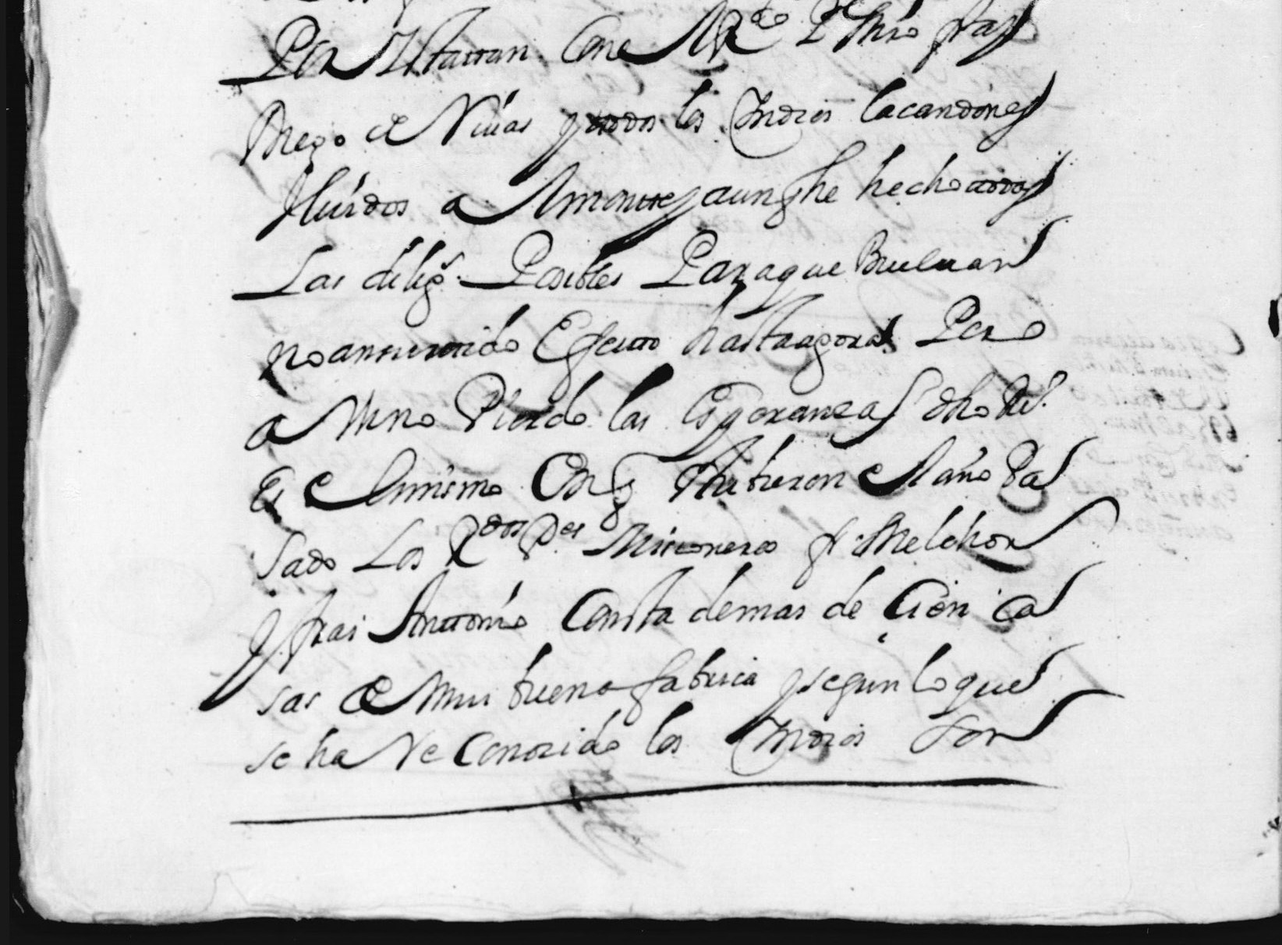lacandon: (860, 70, 1056, 152)
